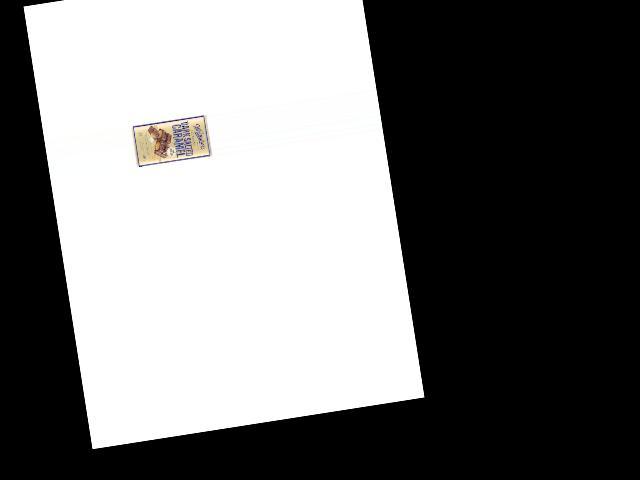chocolate: (129, 113, 212, 171)
